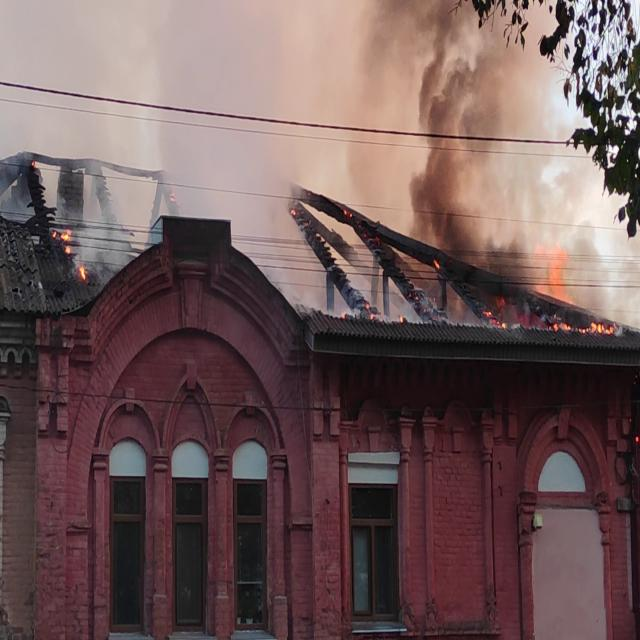fire: (534, 241, 616, 334)
smoke: (426, 95, 482, 262)
